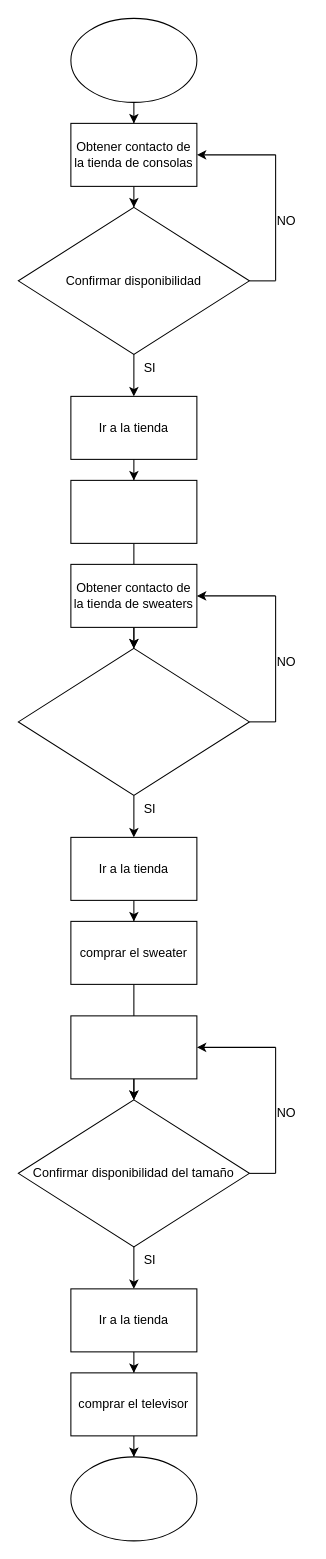
Some shapes in this 326 by 1559 pixel diagram are drawn without their labels. Each missing label, with the box of its shape:
comprar la consola: (70, 479, 197, 543)
Confirmar disponibilidad de talla: (17, 647, 249, 795)
FIN: (70, 1456, 197, 1541)
Inicio: (70, 17, 197, 102)
Obtener contacto de la tienda de televisores: (70, 1015, 197, 1079)
